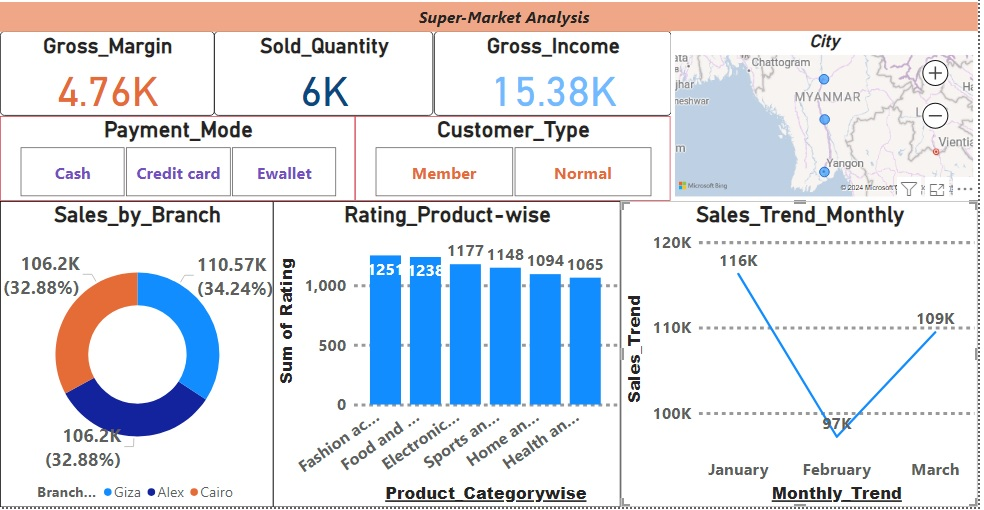

This screenshot's page, from the dashboard's own definition file:
{"tool":"powerbi","page":{"name":"Page 1","canvas":[1280,720],"ordinal":0},"visuals":[{"type":"lineChart","title":"Sales_Trend_Monthly","fields":{"Y":["Sum(SuperMarket Analysis--.Sales)"],"Category":["SuperMarket Analysis--.Date.Variation.Date Hierarchy.Month"]},"box":[813,319.2,467,401.5],"z":0},{"type":"card","title":"Gross_Income","fields":{"Values":["Sum(SuperMarket Analysis--.gross income)"]},"box":[567.8,97.4,310.8,110.9],"z":1000},{"type":"columnChart","title":"Rating_Product-wise","fields":{"Category":["SuperMarket Analysis--.Product line"],"Y":["Sum(SuperMarket Analysis--.Rating)"]},"box":[357.8,319.2,455.2,401.5],"z":2000},{"type":"donutChart","title":"Sales_by_Branch","fields":{"Y":["Sum(SuperMarket Analysis--.Sales)"],"Category":["SuperMarket Analysis--.Branch"]},"box":[0,319.2,357.8,401.5],"z":3000},{"type":"card","title":"Sold_Quantity","fields":{"Values":["Sum(SuperMarket Analysis--.Quantity)"]},"box":[280.5,97.4,287.2,110.9],"z":4000},{"type":"card","title":"Gross_Margin","fields":{"Values":["Sum(SuperMarket Analysis--.gross margin percentage)"]},"box":[0,97.4,280.5,110.9],"z":5000},{"type":"slicer","title":"Payment_Mode","fields":{"Values":["SuperMarket Analysis--.Payment"]},"box":[0,208.3,465.3,110.9],"z":6000},{"type":"slicer","title":"Customer_Type","fields":{"Values":["SuperMarket Analysis--.Customer type"]},"box":[465.3,208.3,413.2,110.9],"z":6001},{"type":"textbox","box":[0,58.8,1280,38.6],"z":6002},{"type":"map","fields":{"Category":["SuperMarket Analysis--.City"]},"box":[878.5,97.4,401.5,221.7],"z":6003}]}

Visuals, with their boxes in screenshot pixels (x1, y1, x2, y2):
"Sales_Trend_Monthly" lineChart: [517, 197, 832, 468]
"Gross_Income" card: [352, 48, 561, 122]
"Rating_Product-wise" columnChart: [210, 197, 517, 468]
"Sales_by_Branch" donutChart: [0, 197, 210, 468]
"Sold_Quantity" card: [158, 48, 352, 122]
"Gross_Margin" card: [0, 48, 158, 122]
"Payment_Mode" slicer: [0, 122, 283, 197]
"Customer_Type" slicer: [283, 122, 561, 197]
textbox: [0, 22, 832, 48]
map - SuperMarket Analysis--.City: [561, 48, 832, 197]
